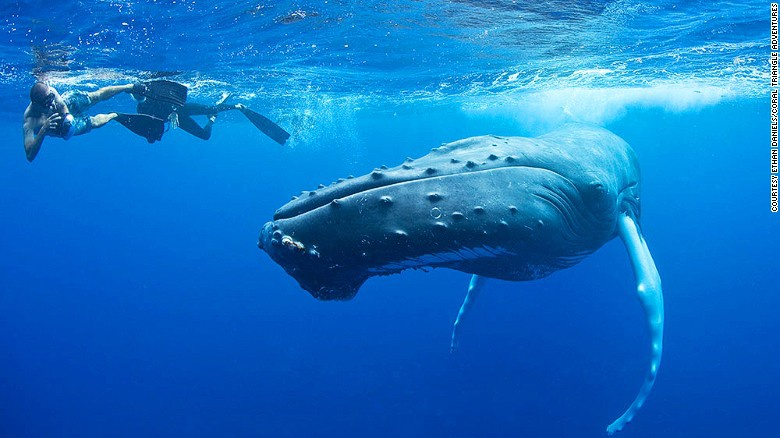humpback: (263, 147, 644, 300)
